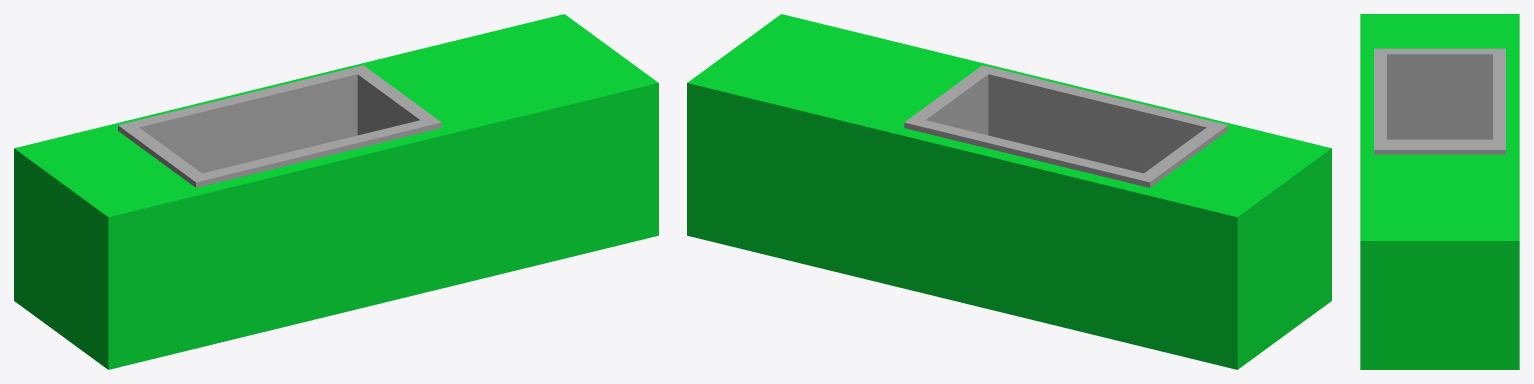
File: BigHole.fbx
3 views of the same model, side by side, from view 1: azimuth 30°, elevation 25°; view 2: azimuth 150°, elevation 25°; view 3: azimuth 270°, elevation 25° (orthographic). The views are drawn at different scales.
Parts seen in each view (by area): view 1: Cube, Куб; view 2: Cube, Куб; view 3: Cube, Куб.
Part boxes in pixels (left/top/right/bottom): Cube: left=14, top=14, right=658, bottom=369; Куб: left=118, top=65, right=441, bottom=187; Cube: left=687, top=14, right=1331, bottom=369; Куб: left=904, top=65, right=1227, bottom=187; Cube: left=1360, top=14, right=1519, bottom=369; Куб: left=1374, top=48, right=1505, bottom=154.
Size of the model in its own units: 813 by 231 by 241.
